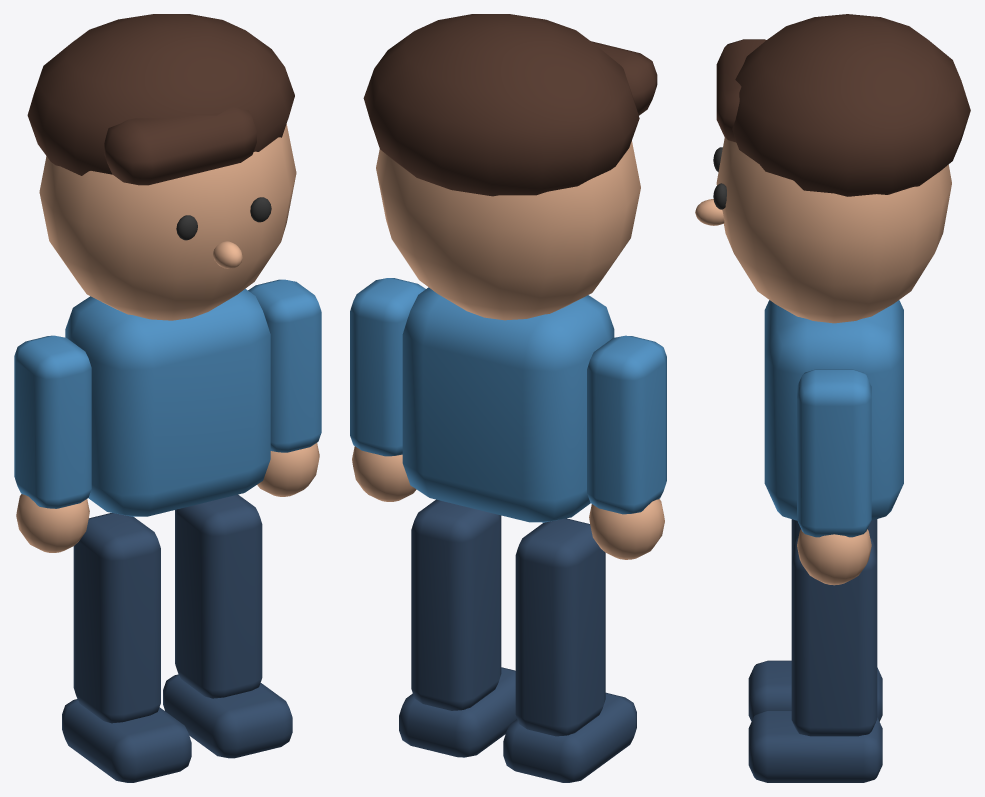
The model's file is boy.glb.
3 renders of one model, left to right at view 1: azimuth 30°, elevation 25°; view 2: azimuth 150°, elevation 25°; view 3: azimuth 270°, elevation 25°, orthographic. The views are drawn at different scales.
Visible parts, largest first — view 1: Jacket, Batch_Chestnut hair_, Batch_Peach skin_, Batch_Navy trousers_LeftLeg, Batch_Navy trousers_RightLeg, LeftArm mesh, RightArm mesh, Hand, Hand.001, Batch_Ink_; view 2: Batch_Chestnut hair_, Jacket, Batch_Peach skin_, Batch_Navy trousers_LeftLeg, Batch_Navy trousers_RightLeg, LeftArm mesh, RightArm mesh, Hand, Hand.001; view 3: Batch_Chestnut hair_, Batch_Peach skin_, Batch_Navy trousers_RightLeg, Jacket, RightArm mesh, Hand.001, Batch_Navy trousers_LeftLeg.
Boxes of the visible parts, box(x1,y1,x2,y2) form: Jacket: box(65, 289, 270, 516); Batch_Chestnut hair_: box(27, 14, 294, 185); Batch_Peach skin_: box(39, 124, 296, 320); Batch_Navy trousers_LeftLeg: box(62, 513, 191, 782); Batch_Navy trousers_RightLeg: box(163, 494, 292, 758); LeftArm mesh: box(14, 335, 91, 508); RightArm mesh: box(248, 279, 321, 452); Hand: box(16, 494, 89, 552); Hand.001: box(257, 443, 319, 496); Batch_Ink_: box(176, 197, 271, 240); Batch_Chestnut hair_: box(363, 14, 657, 196); Jacket: box(402, 287, 614, 522); Batch_Peach skin_: box(376, 141, 640, 320); Batch_Navy trousers_LeftLeg: box(503, 518, 636, 782); Batch_Navy trousers_RightLeg: box(399, 499, 516, 757); LeftArm mesh: box(587, 335, 666, 514); RightArm mesh: box(350, 278, 425, 456); Hand: box(589, 499, 664, 559); Hand.001: box(352, 446, 416, 501); Batch_Chestnut hair_: box(716, 14, 970, 196); Batch_Peach skin_: box(695, 137, 951, 323); Batch_Navy trousers_RightLeg: box(748, 537, 882, 782); Jacket: box(764, 300, 903, 520); RightArm mesh: box(797, 369, 871, 537); Hand.001: box(797, 529, 871, 585); Batch_Navy trousers_LeftLeg: box(748, 519, 882, 721).
Size of the model in its own units: 0.64 by 1.47 by 0.515.
